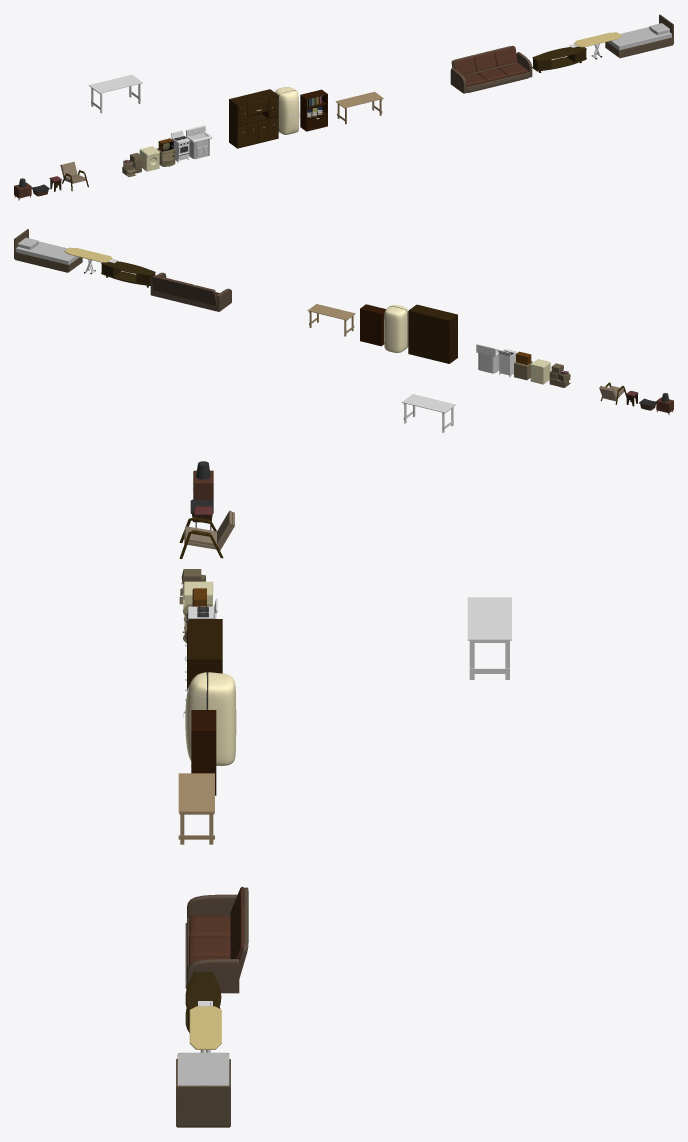
Rendered from allModels.fbx.
3 views of the same model, one above another, from view 1: azimuth 30°, elevation 25°; view 2: azimuth 150°, elevation 25°; view 3: azimuth 270°, elevation 25° (orthographic). The views are drawn at different scales.
Visible parts, largest first — view 1: Cube.019, Cube.076, Cube.128, Yellow book, Cube.045, Cube.001, Cube.006, Cube.003, Cube.004, Cylinder.001, Cube.021, Cube.005 (+3 smaller); view 2: Cube.076, Cube.019, Cube.128, Cube.045, Yellow book, Cube.001, Cube.003, Cube.006, Cube.004, Cylinder.001, Circle.005, Cube.005 (+3 smaller); view 3: Cube.019, Cube.128, Cube.045, Cube.076, Cube.003, Cube.004, Yellow book, Cylinder.001, Cube.000, Cube.001.
Boxes of the visible parts, x1=… form: Cube.019: x1=450, y1=45, x2=532, y2=93; Cube.076: x1=229, y1=89, x2=278, y2=148; Cube.128: x1=605, y1=14, x2=673, y2=58; Yellow book: x1=300, y1=89, x2=327, y2=131; Cube.045: x1=275, y1=87, x2=299, y2=134; Cube.001: x1=532, y1=46, x2=586, y2=72; Cube.006: x1=186, y1=125, x2=212, y2=159; Cube.003: x1=335, y1=91, x2=383, y2=124; Cube.004: x1=88, y1=74, x2=142, y2=93; Cylinder.001: x1=569, y1=32, x2=622, y2=59; Cube.021: x1=171, y1=130, x2=189, y2=162; Cube.005: x1=157, y1=138, x2=175, y2=166; Cube.076: x1=408, y1=304, x2=457, y2=363; Cube.019: x1=150, y1=272, x2=231, y2=311; Cube.128: x1=14, y1=229, x2=82, y2=272; Cube.045: x1=384, y1=305, x2=408, y2=352; Yellow book: x1=360, y1=304, x2=386, y2=346; Cube.001: x1=101, y1=261, x2=155, y2=287; Cube.003: x1=307, y1=304, x2=355, y2=336; Cube.006: x1=476, y1=344, x2=501, y2=373; Cube.004: x1=401, y1=394, x2=455, y2=412; Cylinder.001: x1=64, y1=247, x2=117, y2=274; Circle.005: x1=530, y1=359, x2=550, y2=384; Cube.005: x1=514, y1=351, x2=532, y2=380; Cube.019: x1=185, y1=887, x2=248, y2=993; Cube.128: x1=176, y1=1052, x2=230, y2=1127; Cube.045: x1=183, y1=672, x2=236, y2=765; Cube.076: x1=184, y1=619, x2=222, y2=710; Cube.003: x1=178, y1=773, x2=214, y2=844; Cube.004: x1=467, y1=597, x2=511, y2=640; Yellow book: x1=190, y1=710, x2=216, y2=795; Cylinder.001: x1=189, y1=1001, x2=221, y2=1052; Cube.000: x1=179, y1=510, x2=234, y2=558; Cube.001: x1=185, y1=972, x2=221, y2=1032.
Bounding box in the file's own units: 9364 × 602 × 2094.
